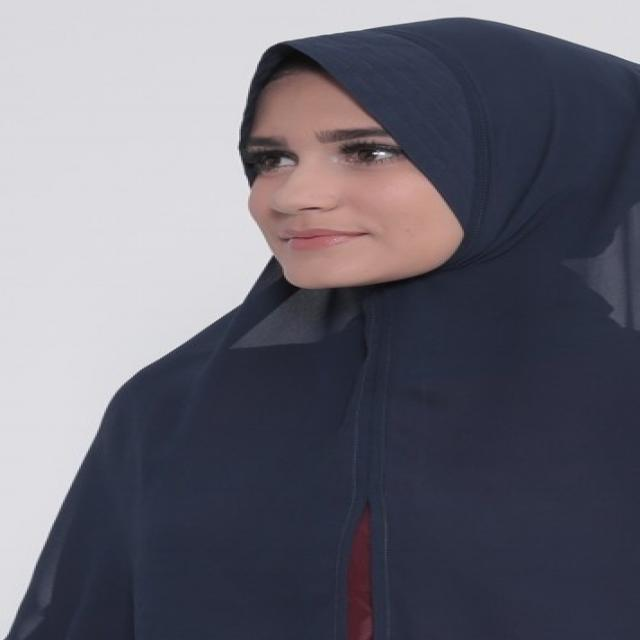head: (228, 31, 640, 296)
